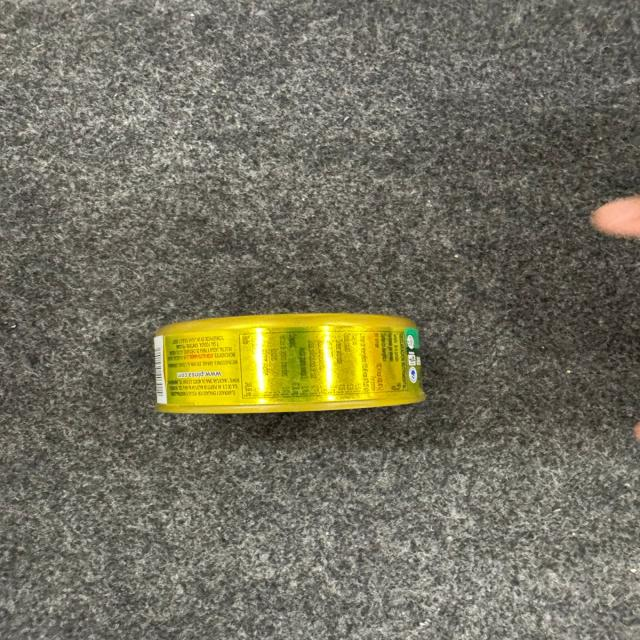Atun Dolores aceite 295gr lata: (140, 310, 428, 426)
